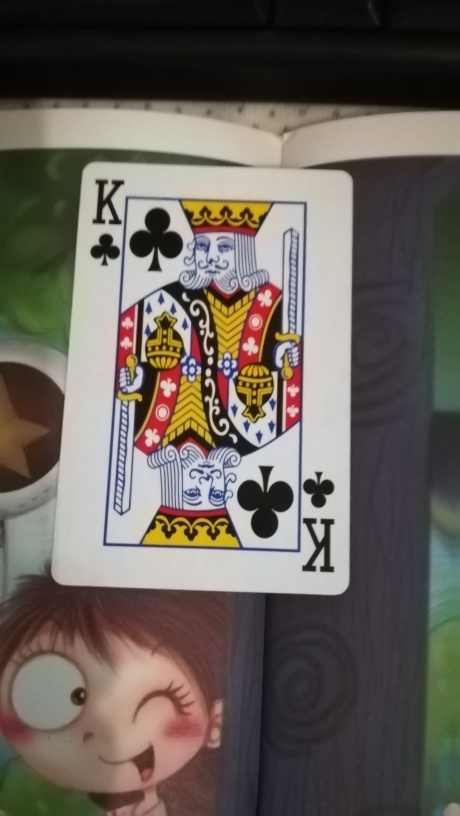mh k: (50, 158, 352, 595)
